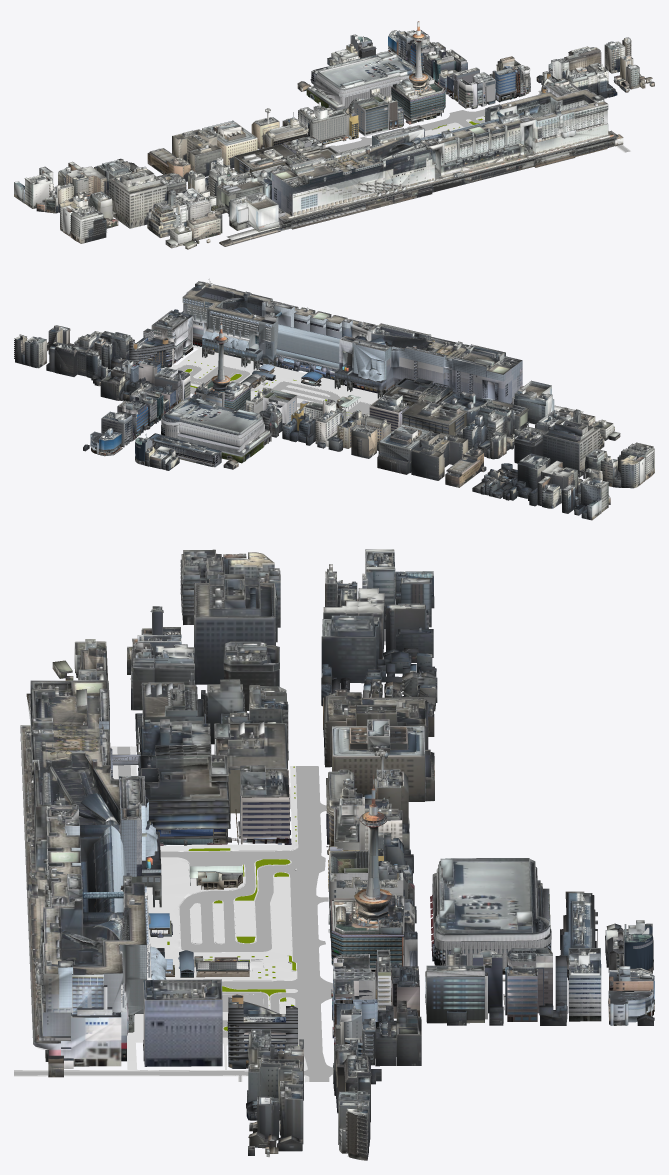
File: kyoto-station-district.glb
3 renders of one model, top to bottom at view 1: azimuth 30°, elevation 25°; view 2: azimuth 150°, elevation 25°; view 3: azimuth 270°, elevation 25°, orthographic. The views are drawn at different scales.
Bounding box in the file's own units: 847 × 135 × 406.
20 materials, 14 textured.
